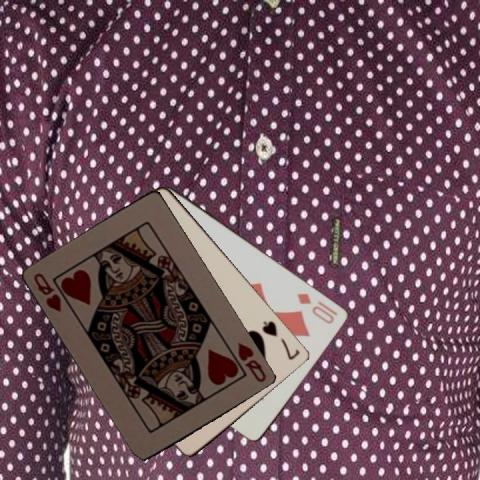10d: (295, 290, 336, 325)
7s: (260, 318, 301, 361)
Qh: (235, 339, 268, 384), (31, 270, 63, 314)
